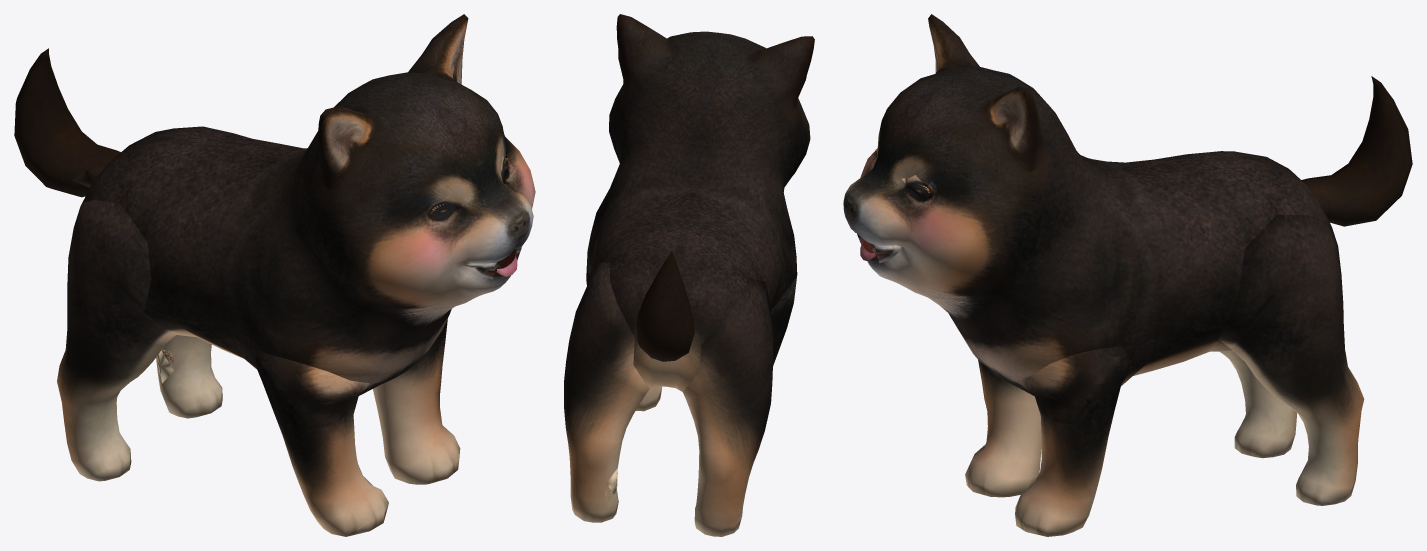
Rendered from cherry.obj.
3 renders of one model, left to right at view 1: azimuth 30°, elevation 25°; view 2: azimuth 150°, elevation 25°; view 3: azimuth 270°, elevation 25°, orthographic. The views are drawn at different scales.
Visible parts, largest first — view 1: cuerpo_Mesh.001, pata_trasera_der_Mesh.014, pata_der_frente_Mesh.017, pata_izq_frene_Mesh.018, cola_Mesh.015, pata_trasera_izq_Mesh.012; view 2: cuerpo_Mesh.001, pata_trasera_der_Mesh.014, pata_trasera_izq_Mesh.012, cola_Mesh.015, pata_der_frente_Mesh.017, pata_izq_frene_Mesh.018; view 3: cuerpo_Mesh.001, pata_trasera_izq_Mesh.012, pata_izq_frene_Mesh.018, cola_Mesh.015, pata_der_frente_Mesh.017, pata_trasera_der_Mesh.014.
Part boxes in pixels (<box>): cuerpo_Mesh.001: <box>82,14,535,395</box>; pata_trasera_der_Mesh.014: <box>57,200,176,481</box>; pata_der_frente_Mesh.017: <box>255,351,388,536</box>; pata_izq_frene_Mesh.018: <box>373,318,460,484</box>; cola_Mesh.015: <box>14,48,120,197</box>; pata_trasera_izq_Mesh.012: <box>156,335,222,418</box>; cuerpo_Mesh.001: <box>587,14,814,391</box>; pata_trasera_der_Mesh.014: <box>683,278,773,536</box>; pata_trasera_izq_Mesh.012: <box>564,262,649,522</box>; cola_Mesh.015: <box>636,251,694,361</box>; pata_der_frente_Mesh.017: <box>771,275,797,365</box>; pata_izq_frene_Mesh.018: <box>586,252,662,411</box>; cuerpo_Mesh.001: <box>843,14,1331,395</box>; pata_trasera_izq_Mesh.012: <box>1218,215,1364,505</box>; pata_izq_frene_Mesh.018: <box>1015,346,1133,536</box>; cola_Mesh.015: <box>1301,76,1412,226</box>; pata_der_frente_Mesh.017: <box>965,360,1041,497</box>; pata_trasera_der_Mesh.014: <box>1220,351,1296,458</box>.
Bounding box in the file's own units: 0.7503 × 1.1 × 1.19.
1 material, 1 textured.
